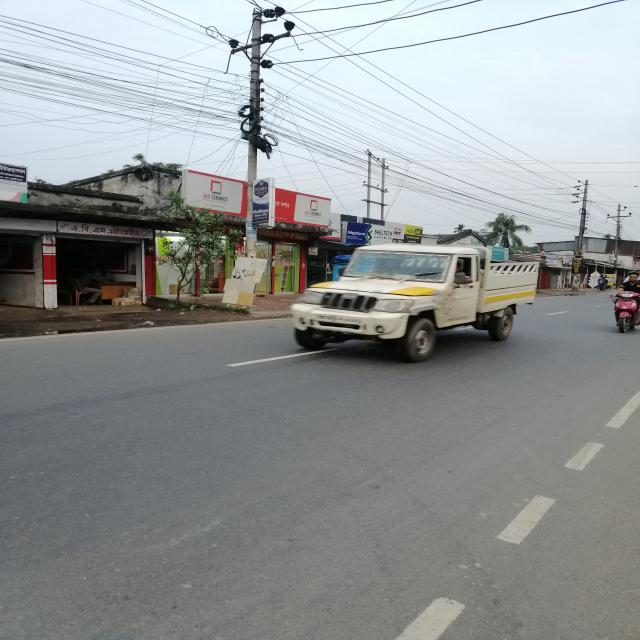Zeep: (299, 235, 532, 366)
